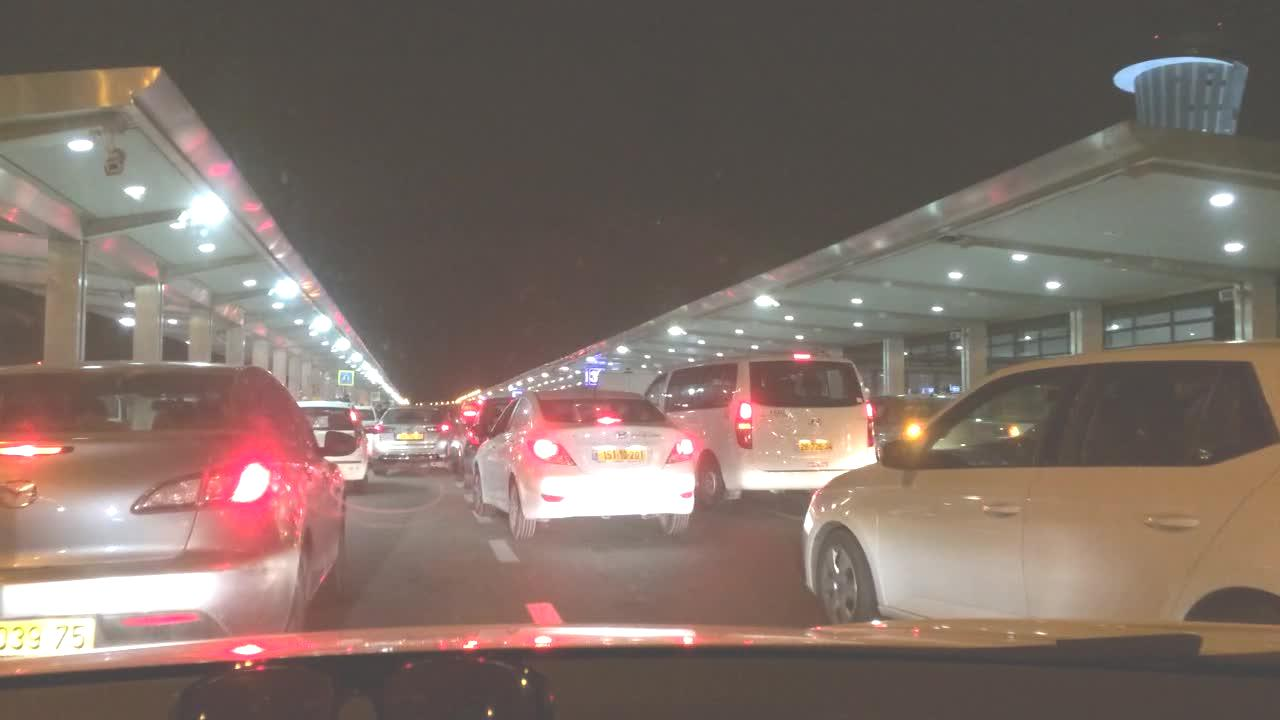Mazda: (0, 471, 43, 521)
